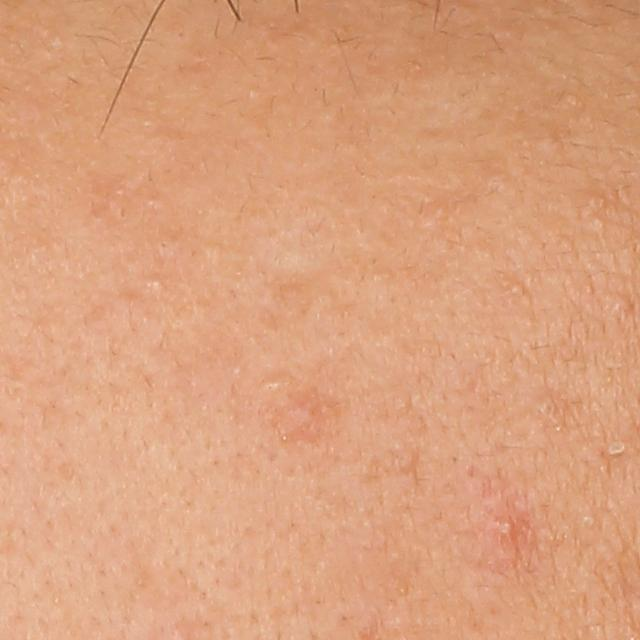comedo: (609, 292, 631, 314), (146, 275, 167, 297)
papule: (489, 507, 527, 545)
